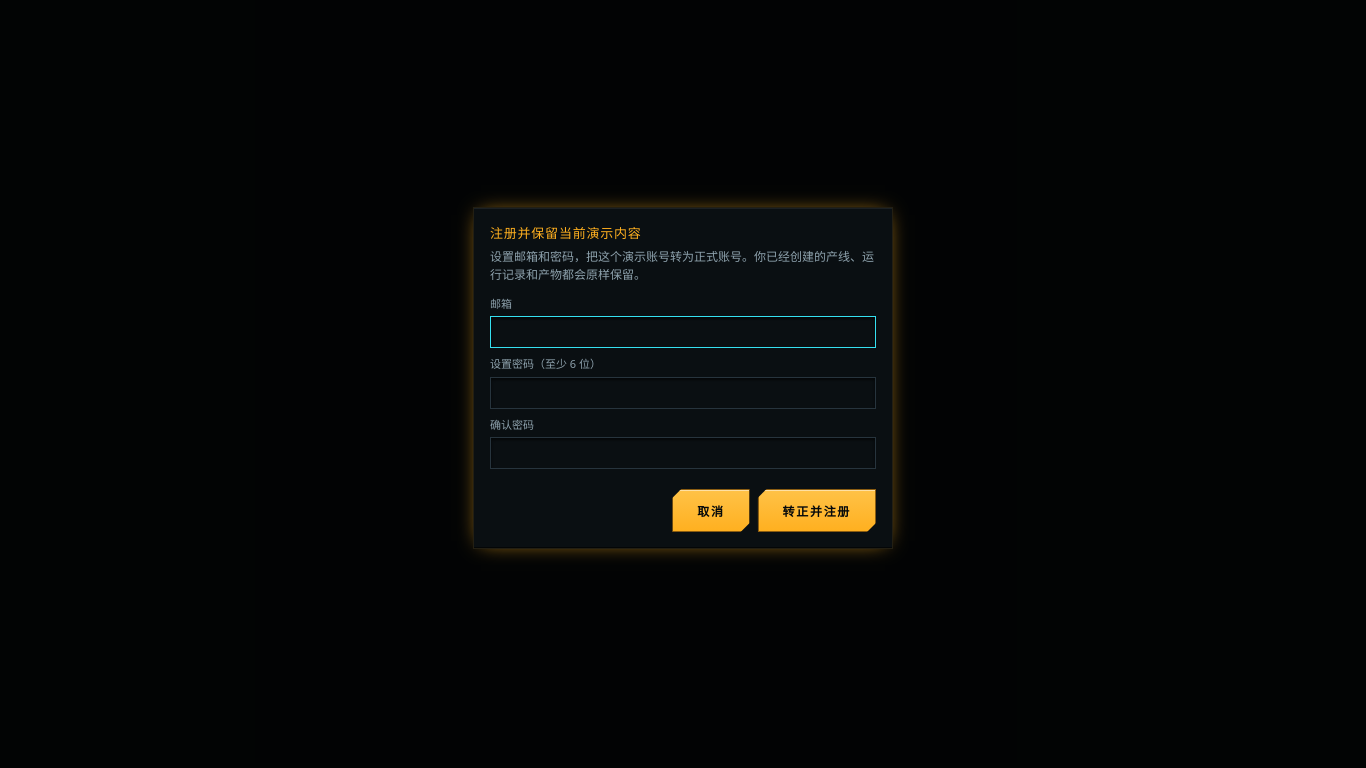
Test case: ClaimDialog › 邮箱被占用时显示对应错误
The width and height of the screenshot is (1366, 768).
In the field labelled "邮箱": (683, 332) 490,316 -> 876,348, type "taken@x.dev"
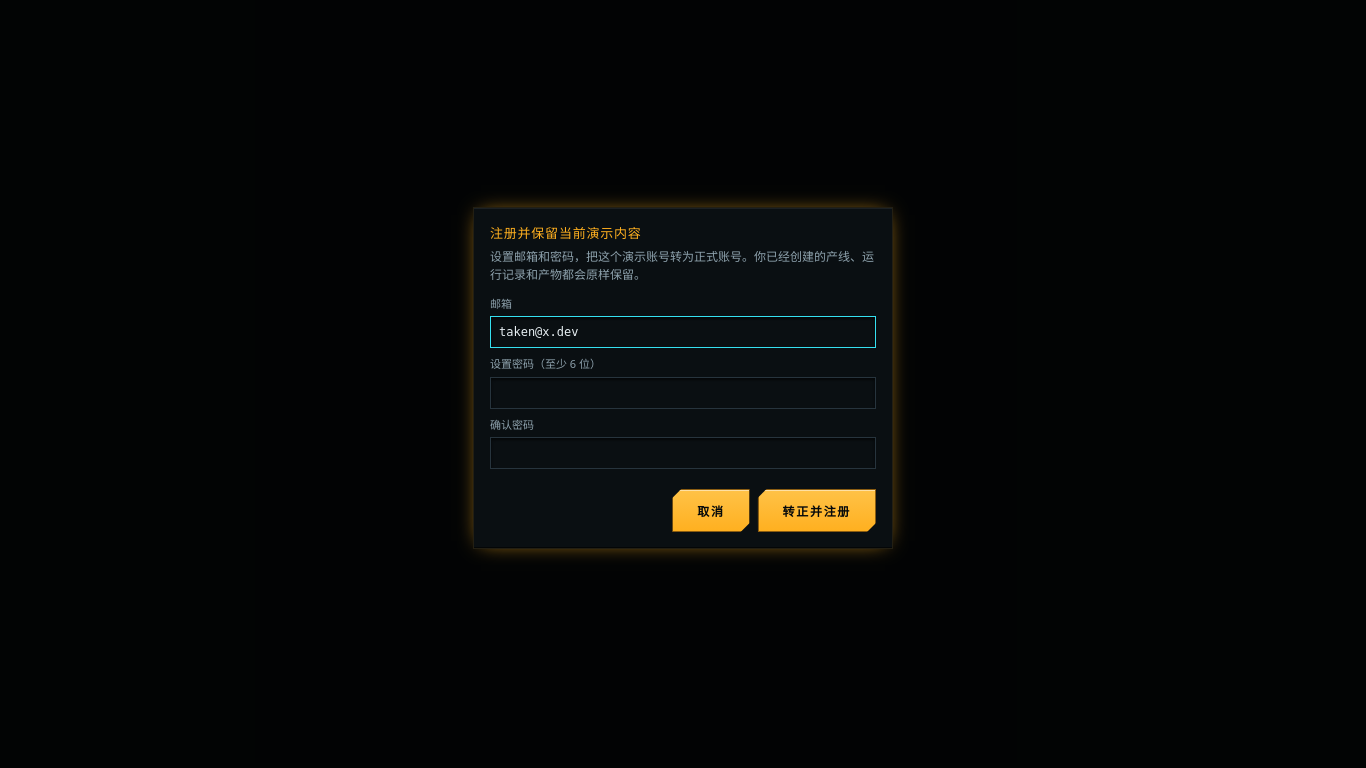
In the password field labelled "设置密码（至少 6 位）": (683, 392) 490,376 -> 876,408, type "secret123"
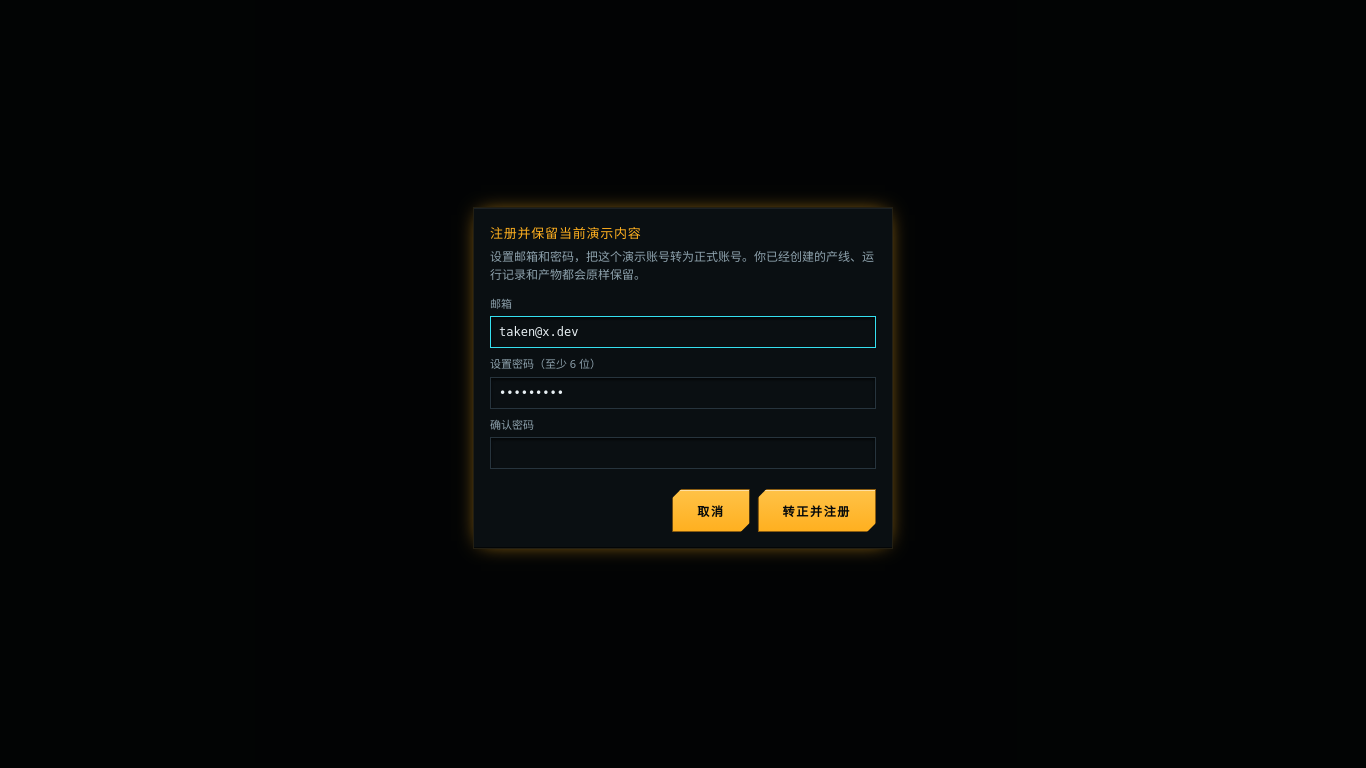
In the password field labelled "确认密码": (683, 453) 490,437 -> 876,469, type "secret123"
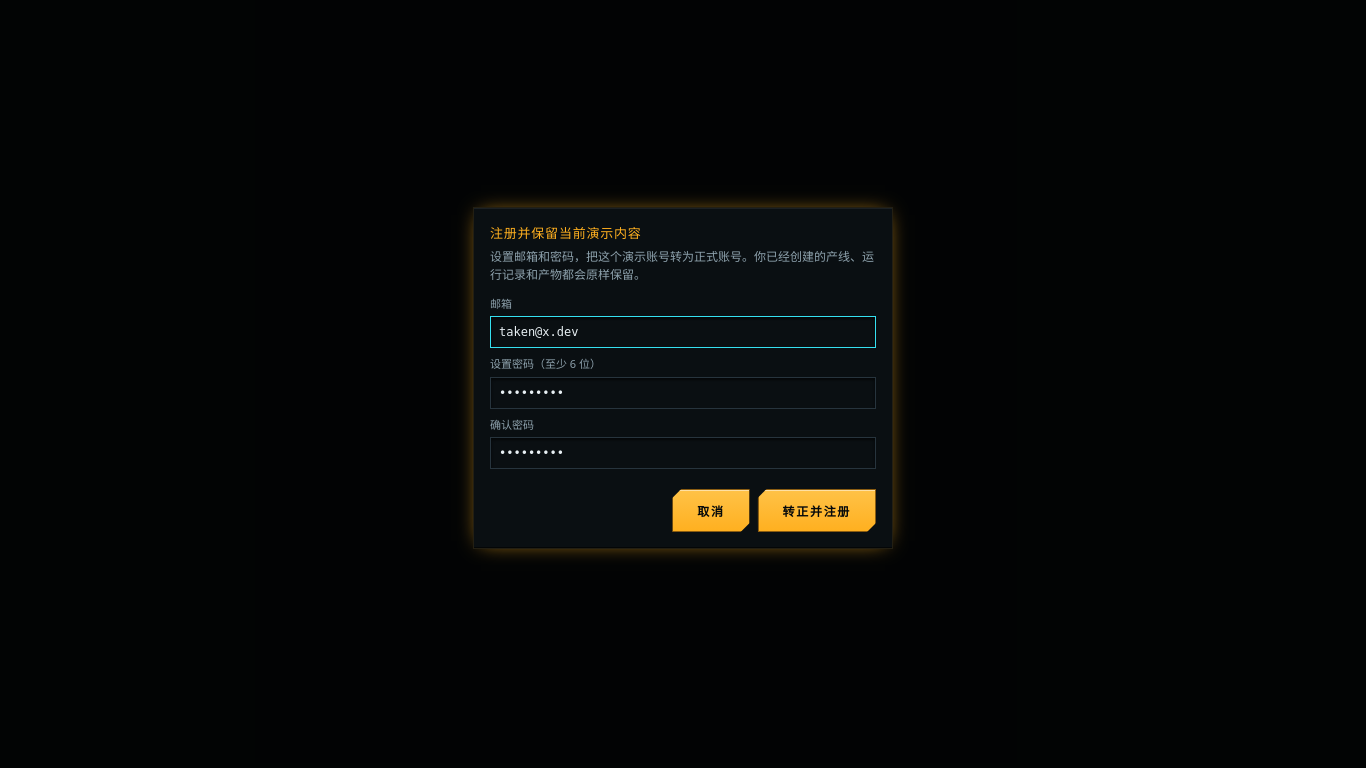
Click the button "转正并注册": (817, 510) 758,489 -> 876,532
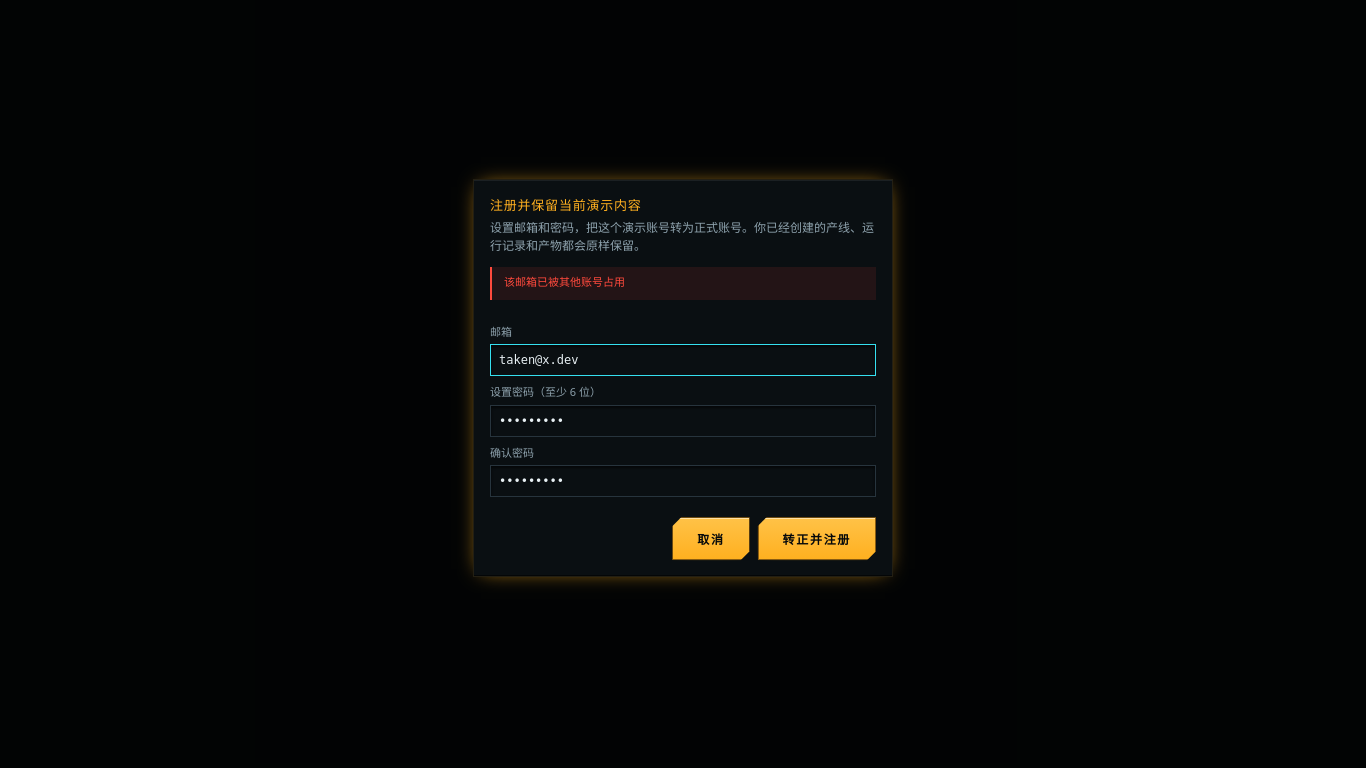
Check: the text "该邮箱已被其他账号占用" is shown, box 490,267 -> 876,300
